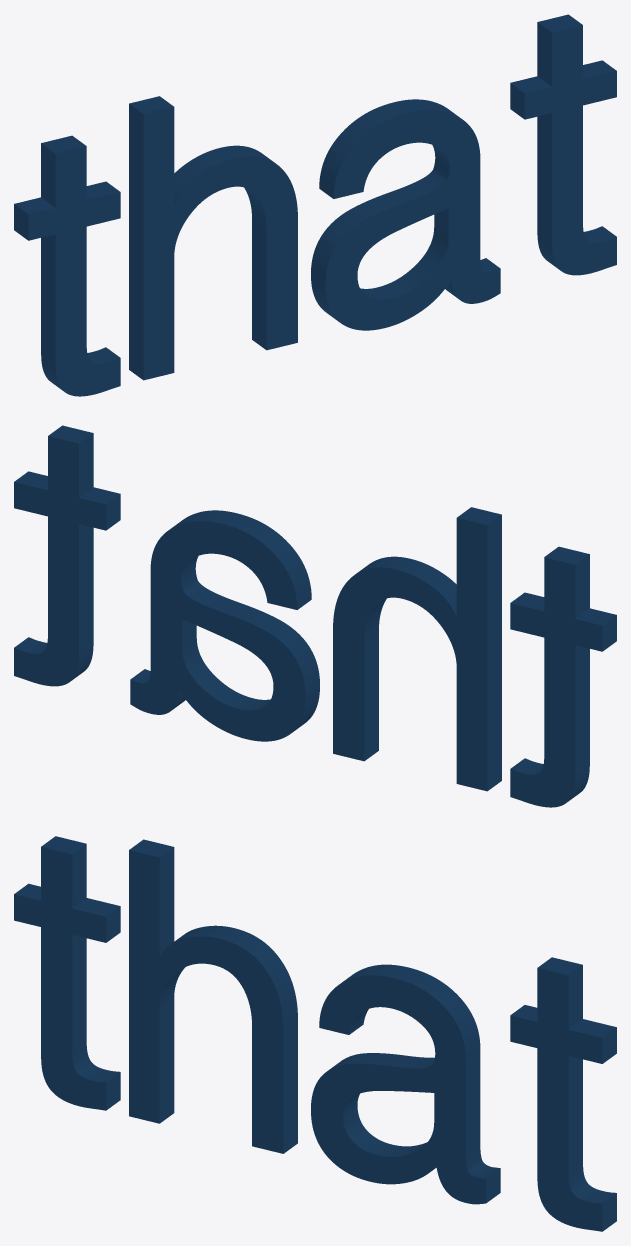
The model's file is that.gltf.
The picture shows the model from 3 angles, top to bottom: view 1: azimuth 30°, elevation 25°; view 2: azimuth 150°, elevation 25°; view 3: azimuth 330°, elevation 25°; orthographic projection.
Size of the model in its own units: 2.34 by 1.04 by 0.1.
